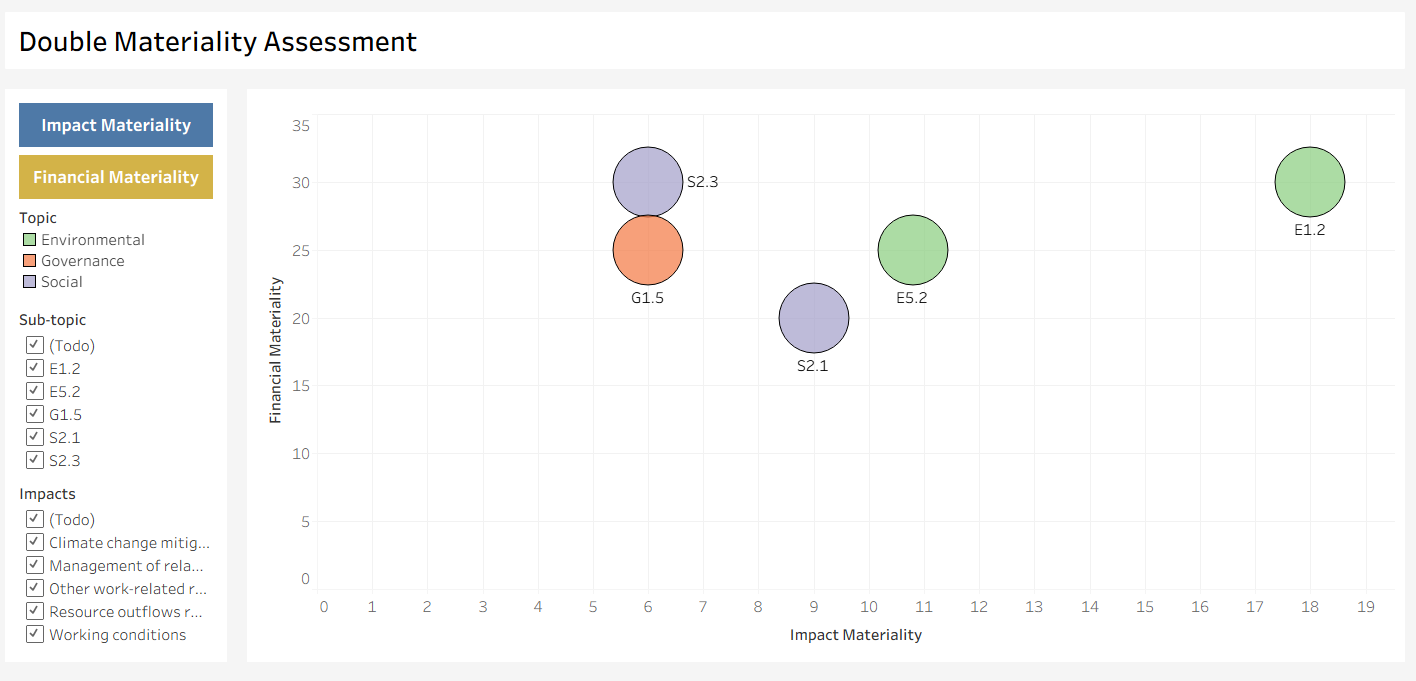

Layout of this report page (visuals, bound fields, positions):
{"tool":"tableau","page":{"name":"Double M","canvas":[1420,670],"ordinal":0},"visuals":[{"type":"text","box":[0,0,1420,77.5]},{"type":"worksheet","title":"Double Materiality","mark":"Circle","rows":["R/O-Index"],"cols":["Impact-Index"],"box":[241.7,77.5,1178.3,592.5]},{"type":"dashboard-object","box":[20,97.5,201.7,52]},{"type":"dashboard-object","box":[20,149.5,201.7,52]},{"type":"legend","title":"Double Materiality","param":"[federated.168zm8c13as4ti16oj61m0ww0z5f].[none:Topic:nk]","box":[20,201.5,201.7,102]},{"type":"filter","title":"Double Materiality","param":"[federated.168zm8c13as4ti16oj61m0ww0z5f].[none:Sub-topic:nk]","box":[20,303.5,201.7,173.3]},{"type":"filter","title":"Double Materiality","param":"[federated.168zm8c13as4ti16oj61m0ww0z5f].[none:Impacts:nk]","box":[20,476.7,201.7,173.3]}]}

Visuals, with their boxes in screenshot pixels (x1, y1, x2, y2), scaled from the page's 1420x670 canvas onto the 1416x681 screenshot:
text: bbox=[0, 0, 1415, 79]
"Double Materiality" worksheet (Circle marks): bbox=[241, 79, 1415, 680]
dashboard-object: bbox=[20, 99, 221, 152]
dashboard-object: bbox=[20, 152, 221, 205]
"Double Materiality" legend: bbox=[20, 205, 221, 308]
"Double Materiality" filter: bbox=[20, 308, 221, 485]
"Double Materiality" filter: bbox=[20, 485, 221, 661]
